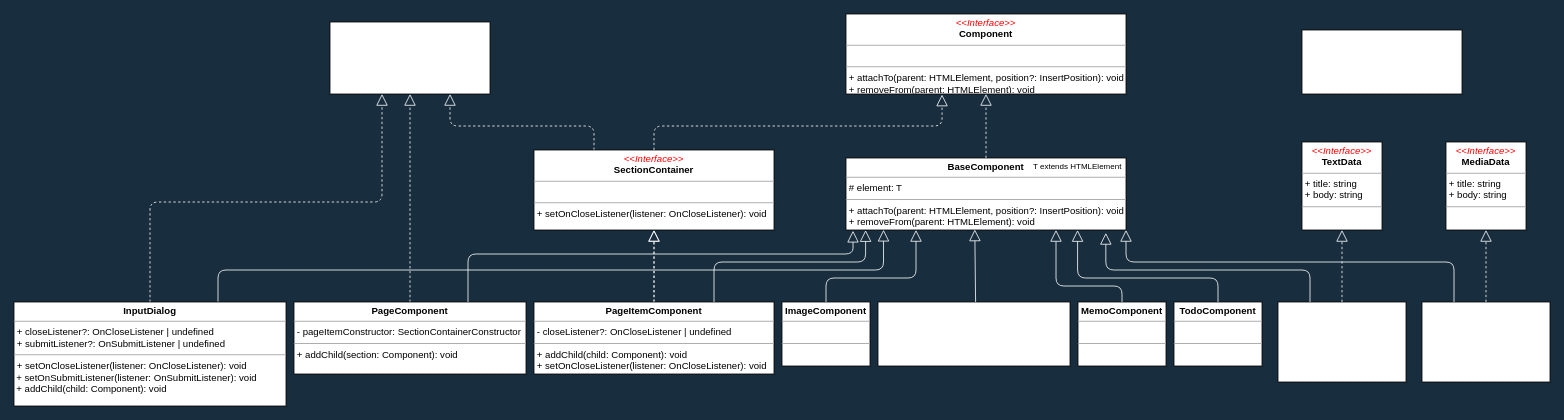
Some shapes in this 1564 by 420 pixel diagram are drawn without their labels. The centre of each missing label's shape, as x and y in pixels:
"<<Interface>> Composable + addChild(child: Component): void" goes at (409,57).
"App - page: Component & Composable" goes at (1381,61).
"MediaSectionInput + title: string + url: string" goes at (1485,341).
"TextSectionInput + title: string + body: string" goes at (1341,341).
"VideoComponent - convertToEmbeddedURL(url: string): string" goes at (973,333).
